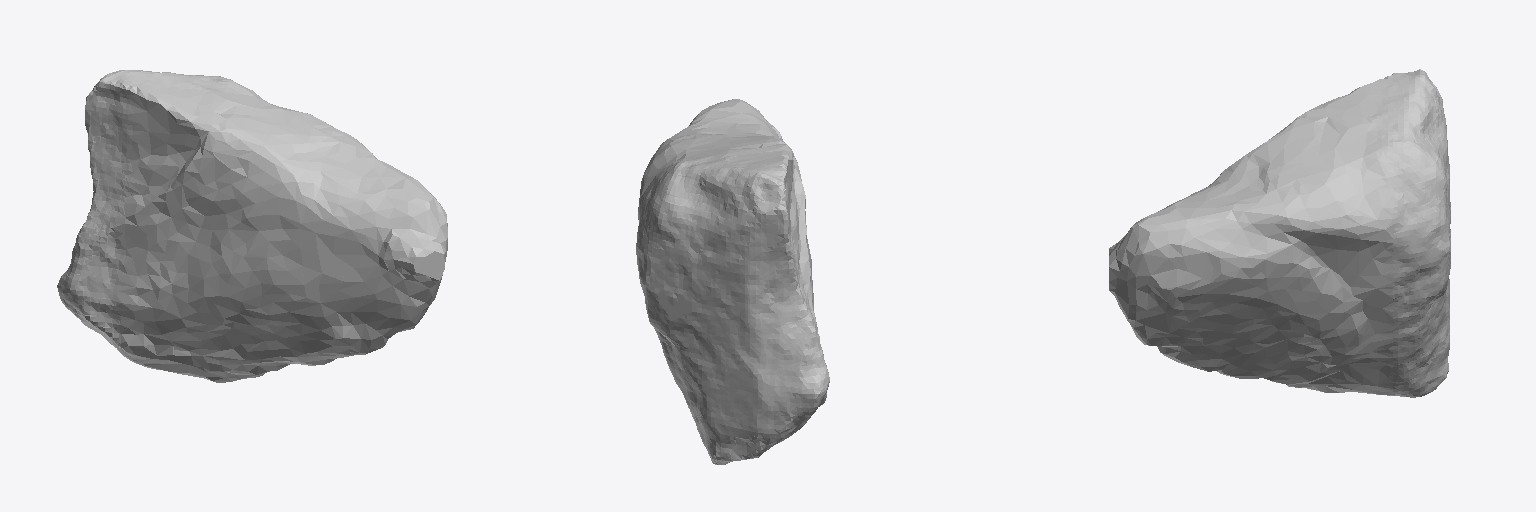
The model's file is final_sp1_pca_oriented.obj.
3 renders of one model, left to right at view 1: azimuth 30°, elevation 25°; view 2: azimuth 150°, elevation 25°; view 3: azimuth 270°, elevation 25°, orthographic.
Bounding box in the file's own units: 0.67 × 0.76 × 0.79.